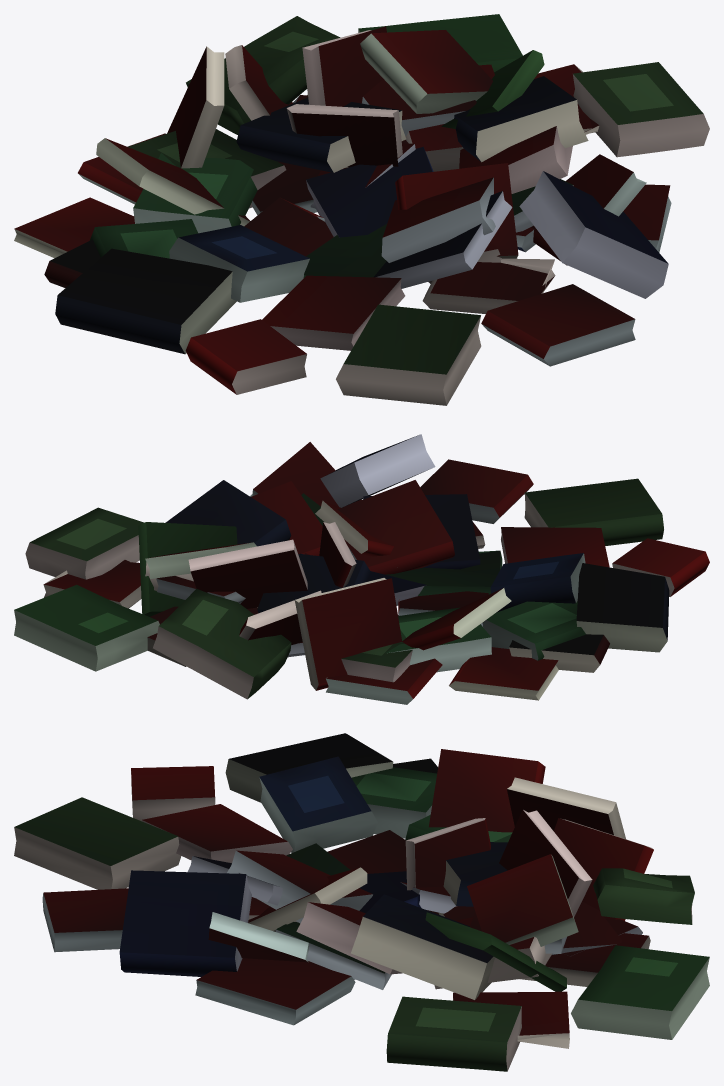
The model's file is PileOfBooks_Type1.fbx.
3 renders of one model, top to bottom at view 1: azimuth 30°, elevation 25°; view 2: azimuth 150°, elevation 25°; view 3: azimuth 270°, elevation 25°, orthographic. The views are drawn at different scales.
Visible parts, largest first — view 1: PileOfBooks_Type1; view 2: PileOfBooks_Type1; view 3: PileOfBooks_Type1.
Part boxes in pixels (<box>): PileOfBooks_Type1: <box>14,14,709,405</box>; PileOfBooks_Type1: <box>14,434,709,704</box>; PileOfBooks_Type1: <box>14,733,709,1071</box>.
Size of the model in its own units: 205 by 36.32 by 191.
